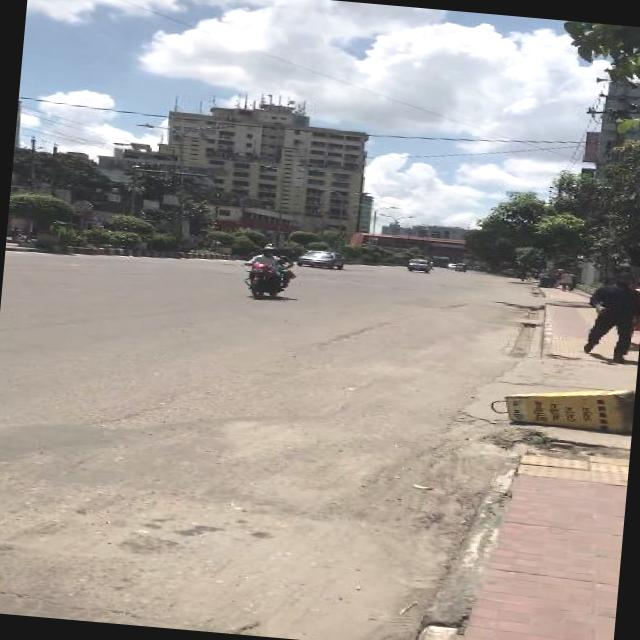bus: (430, 254, 447, 268)
car: (295, 248, 344, 270)
motorcycle: (236, 242, 296, 302), (451, 262, 466, 272)
truck: (404, 256, 430, 272)
